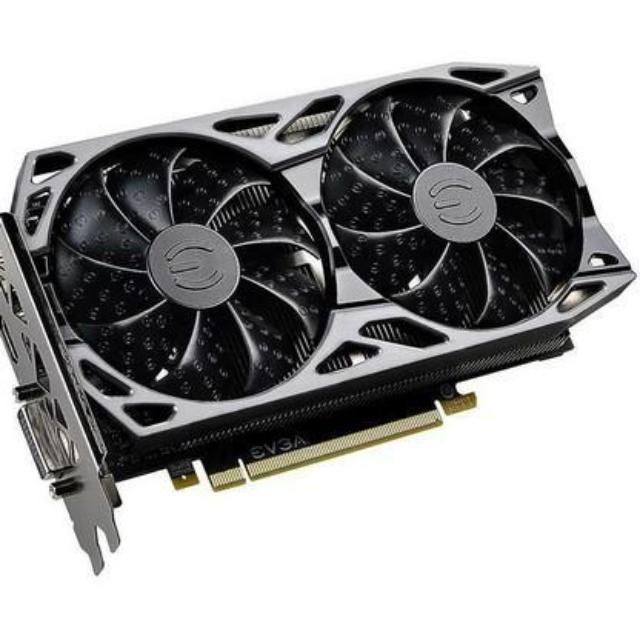GPU: (0, 54, 637, 514)
